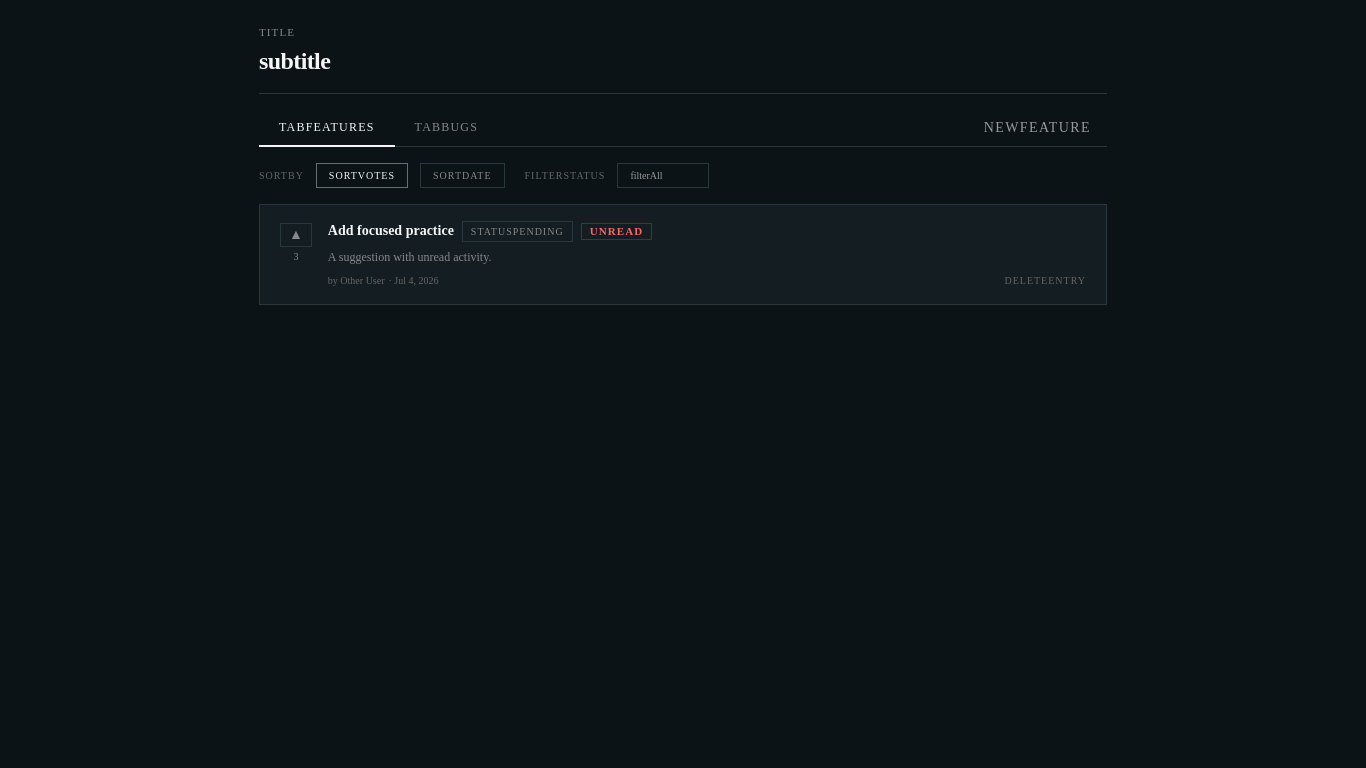
FeedbackPage list and entry actions › cancels list deletion without sending a DELETE request
Expected: the text "Add focused practice" is shown, [328,221,454,241]
Click the button "deleteEntry".
click(1045, 280)  # box [1004,273,1086,288]
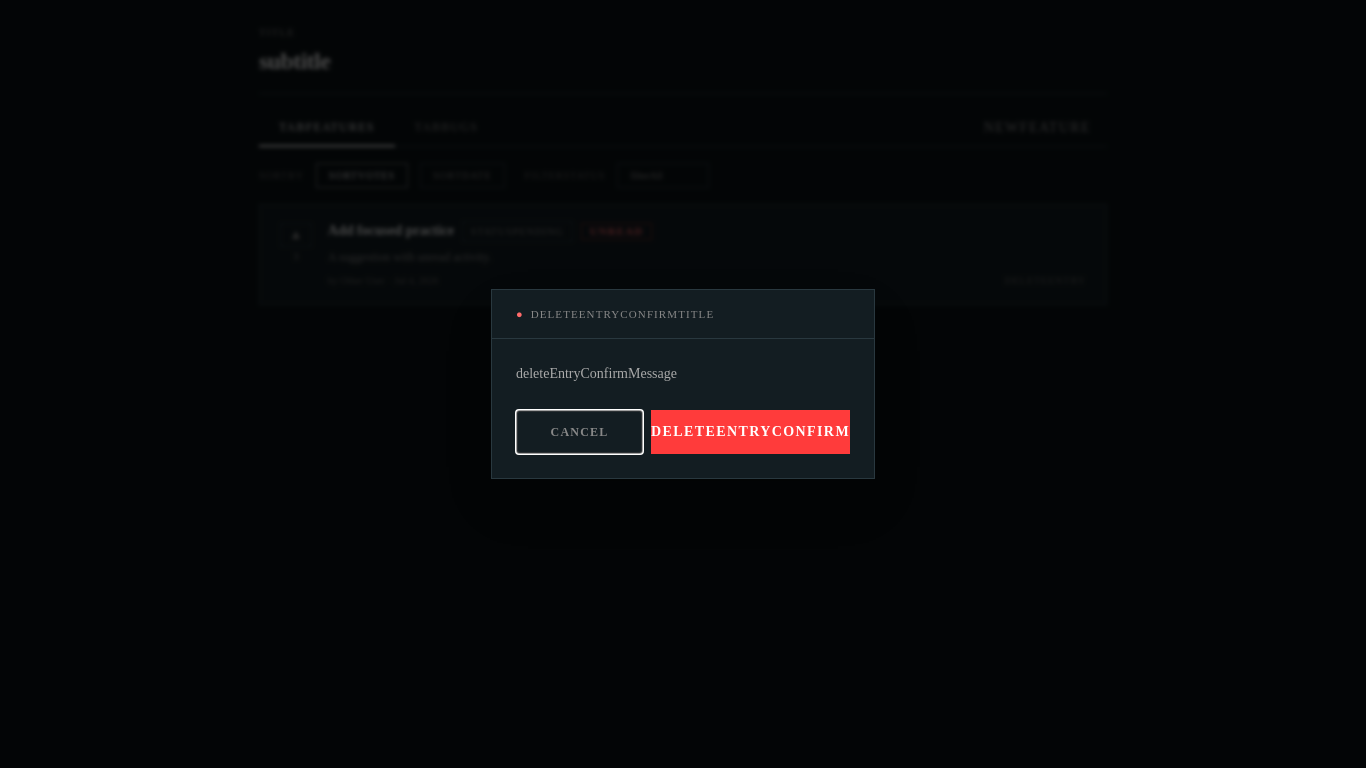
Expected: the dialog is shown, [491,289,875,479]
Click the button "cancel".
click(580, 432)  # box [516,410,643,454]
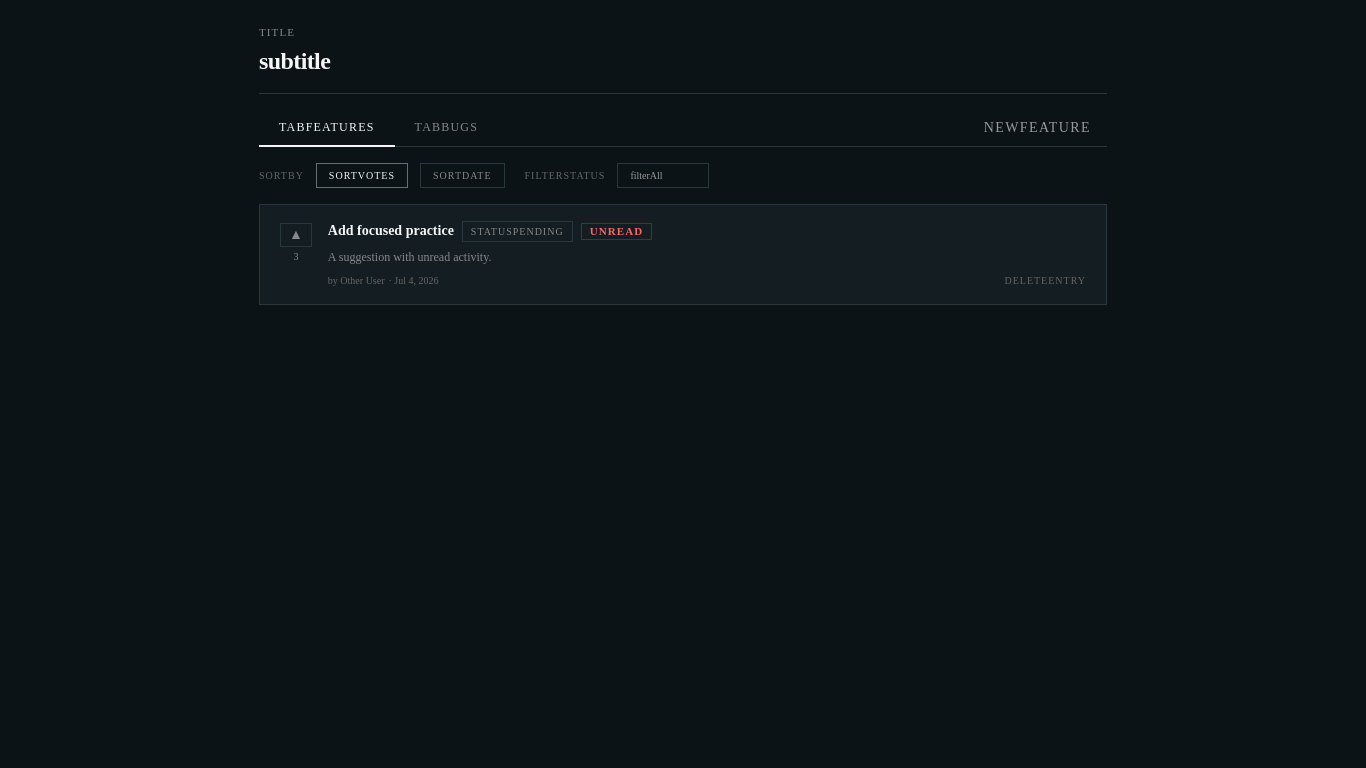
Expected: the text "Add focused practice" is shown, [328,221,454,241]
Expected: the dialog is gone
